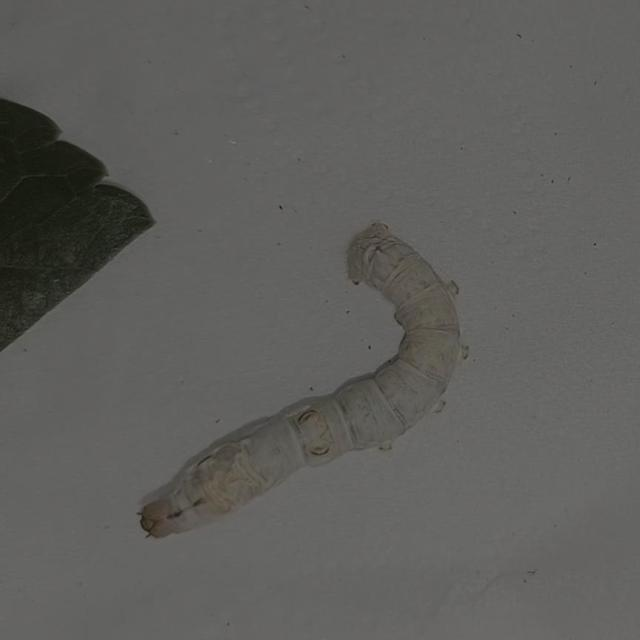Healthy: (98, 199, 499, 555)
